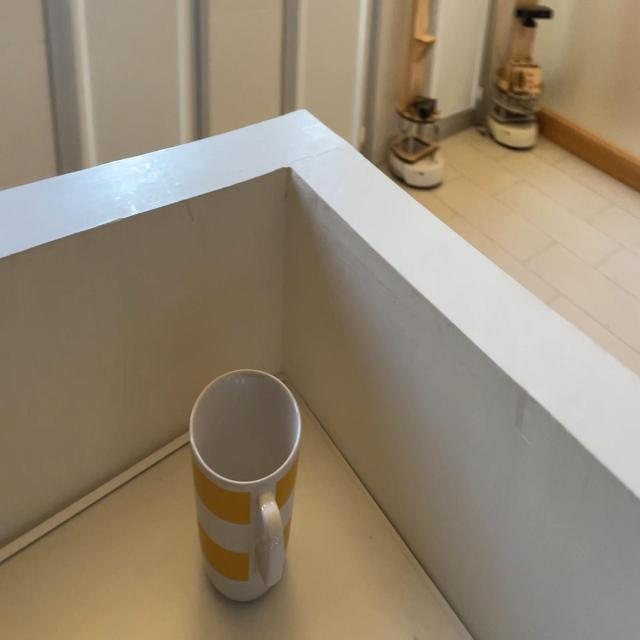cup: (188, 367, 304, 605)
